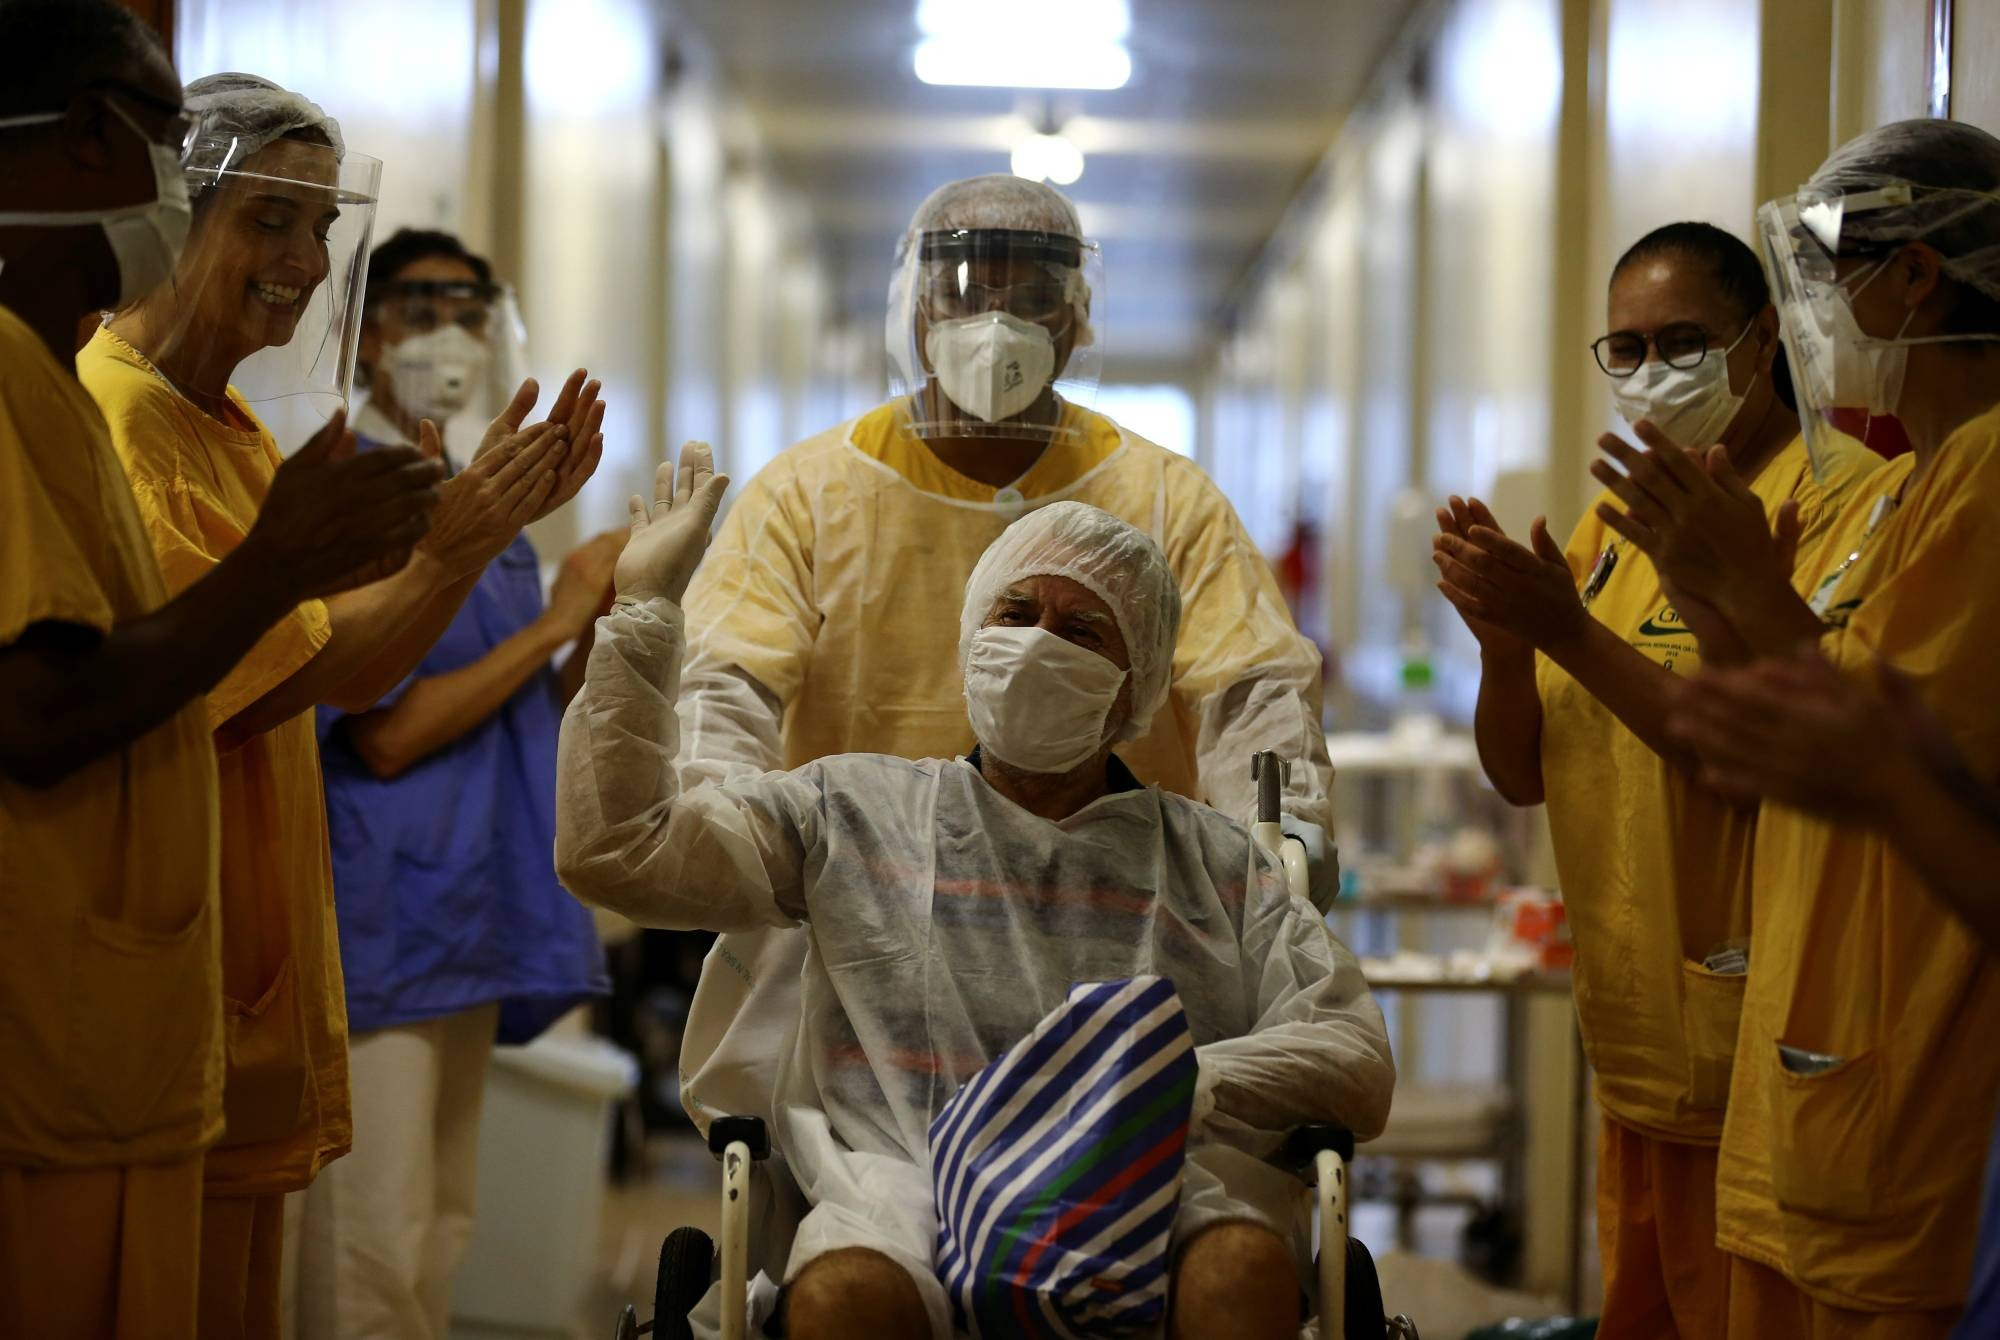Face_Shield: (1745, 172, 1943, 489), (205, 124, 384, 435), (889, 218, 1100, 449), (353, 274, 547, 443)
Gloves: (601, 437, 732, 620)
Goggles: (919, 274, 1090, 335)
with_mask: (964, 602, 1127, 774), (90, 72, 197, 313), (1782, 259, 1906, 417), (927, 293, 1060, 430), (1606, 333, 1747, 454), (384, 309, 499, 424)
